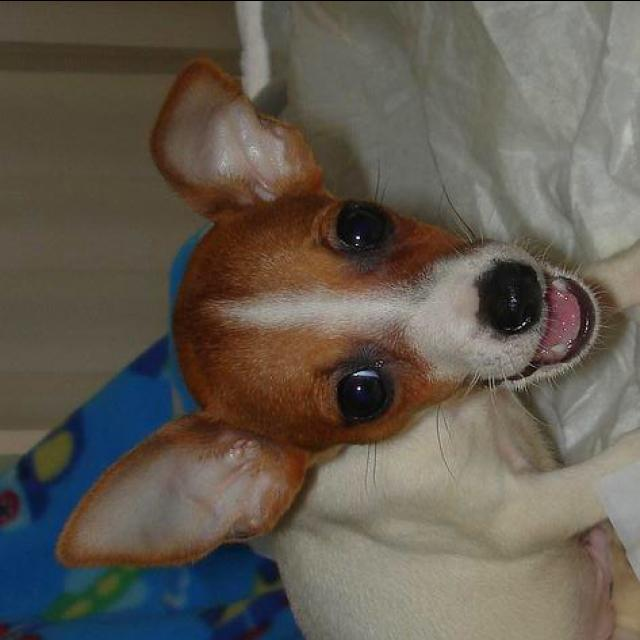toy_terrier: (53, 56, 637, 640)
